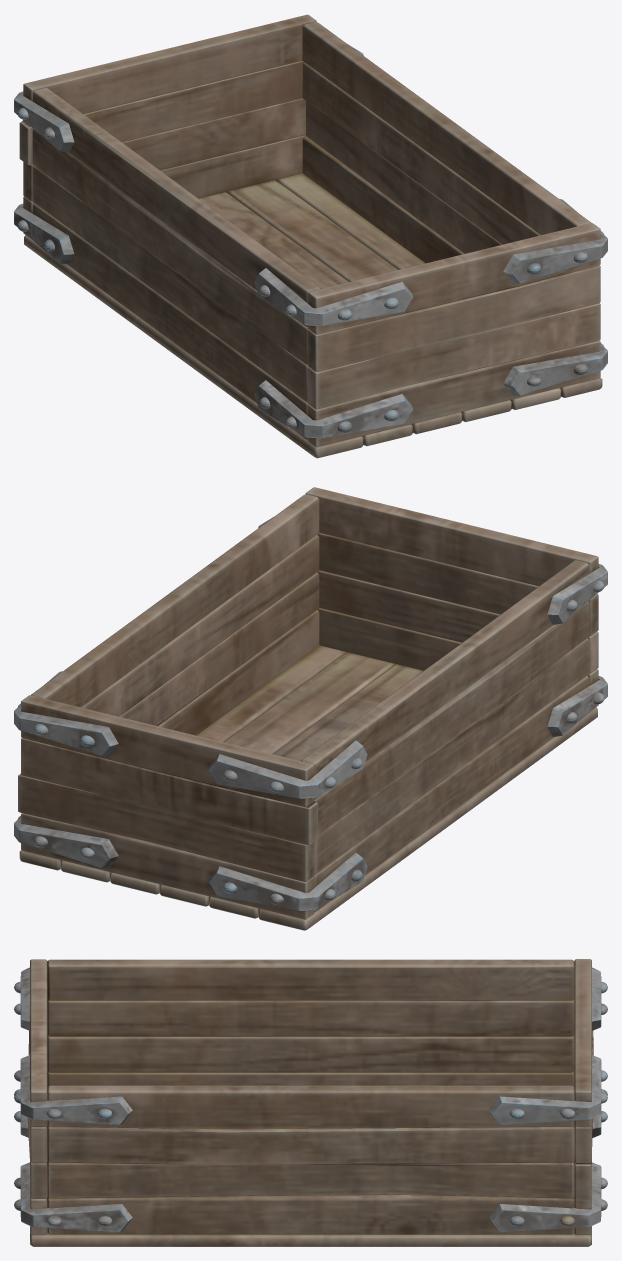
The model's file is SM_market_box_01.fbx.
The picture shows the model from 3 angles, top to bottom: view 1: azimuth 30°, elevation 25°; view 2: azimuth 150°, elevation 25°; view 3: azimuth 270°, elevation 25°; orthographic projection. The views are drawn at different scales.
Parts seen in each view (by area): view 1: SM_market_box_01_LOD0; view 2: SM_market_box_01_LOD0; view 3: SM_market_box_01_LOD0.
Part boxes in pixels (bbox=[...]): SM_market_box_01_LOD0: bbox=[14, 14, 607, 458]; SM_market_box_01_LOD0: bbox=[14, 487, 607, 930]; SM_market_box_01_LOD0: bbox=[14, 959, 607, 1246].
Size of the model in its own units: 60.14 by 102 by 29.44.
Materials: 1 (1 with a texture image).
